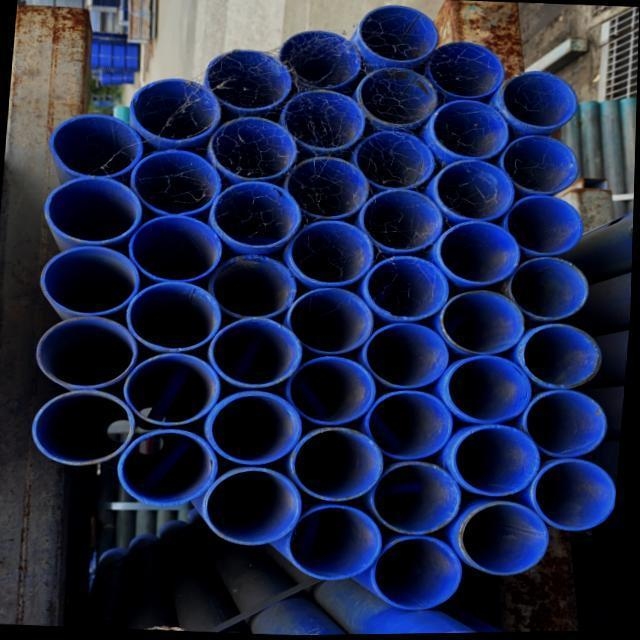pipe: (115, 426, 228, 514), (28, 386, 142, 471), (202, 465, 310, 551), (31, 312, 147, 392), (457, 498, 562, 582), (204, 388, 310, 471), (34, 242, 148, 319), (288, 424, 394, 506), (371, 533, 474, 616), (288, 502, 392, 584), (447, 420, 549, 502), (123, 351, 229, 428), (368, 458, 470, 538), (119, 72, 225, 148), (207, 314, 310, 392), (363, 386, 462, 465), (126, 279, 230, 354), (285, 352, 385, 430), (39, 174, 147, 246), (126, 212, 230, 286), (520, 388, 620, 464), (44, 106, 146, 180), (208, 178, 309, 252), (530, 457, 622, 537), (440, 353, 538, 428), (283, 286, 382, 360), (437, 286, 533, 361), (282, 218, 382, 290), (128, 146, 228, 218), (362, 318, 458, 392), (202, 45, 300, 116), (207, 249, 303, 321), (208, 112, 304, 184), (361, 252, 457, 324), (350, 0, 447, 70), (433, 218, 526, 290), (282, 151, 374, 222), (356, 187, 449, 257), (281, 86, 374, 156), (274, 24, 368, 92), (430, 158, 523, 226), (496, 66, 586, 136), (518, 322, 608, 392), (506, 254, 594, 324), (558, 210, 635, 290), (426, 99, 516, 164), (504, 192, 591, 259), (352, 68, 442, 132), (351, 129, 440, 193), (424, 38, 512, 102), (499, 130, 584, 196)
